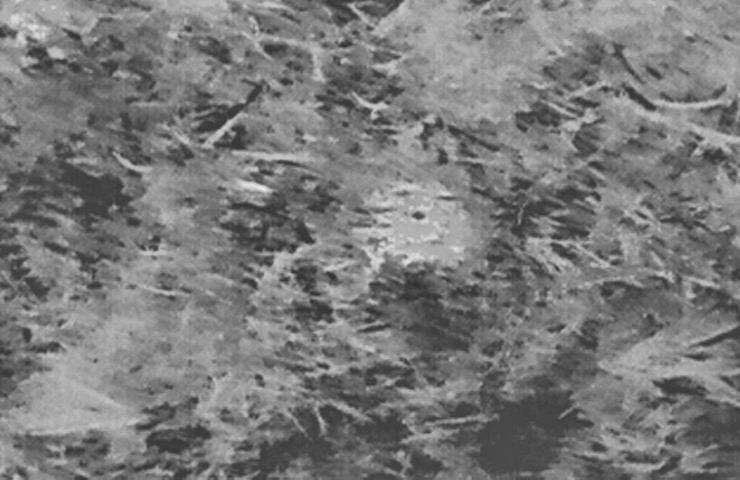landmines: (358, 174, 480, 276)
